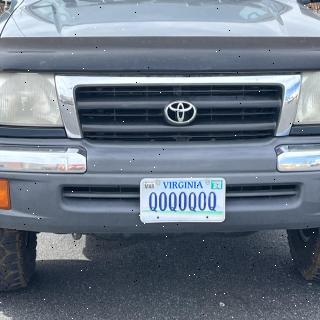license: (141, 178, 226, 224)
